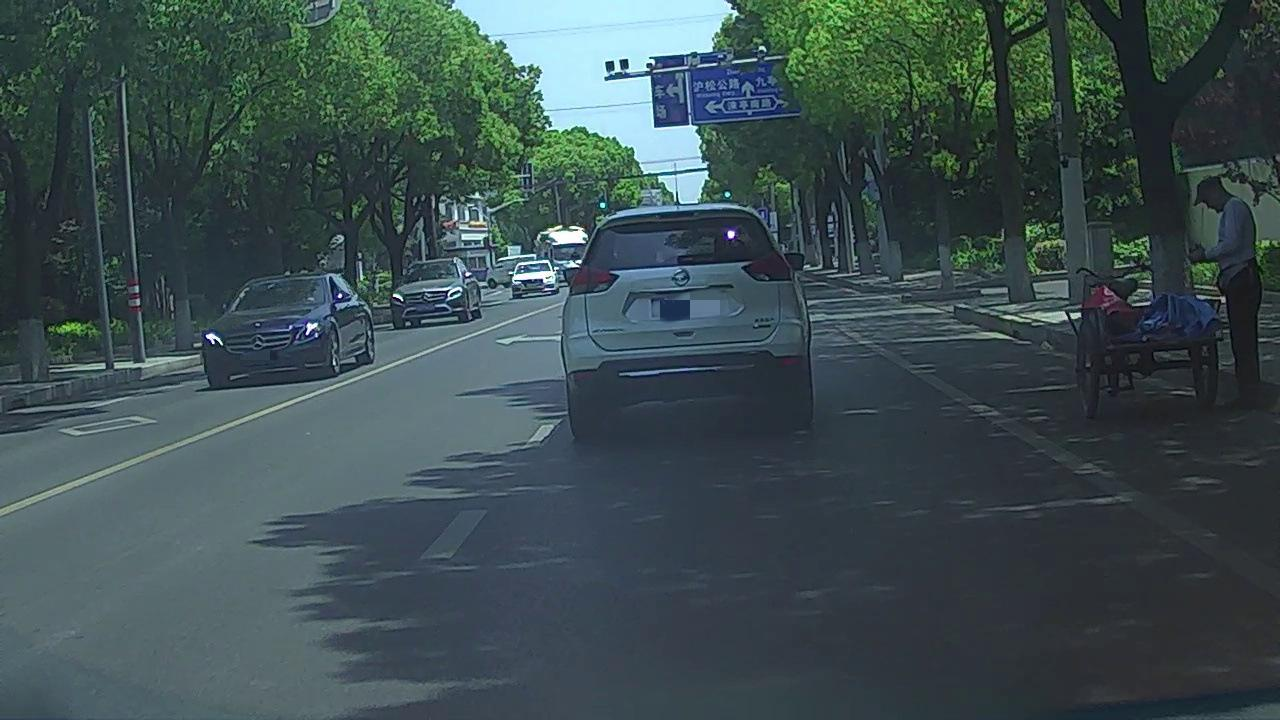traffic_light: (725, 191, 731, 198), (600, 202, 606, 208)
